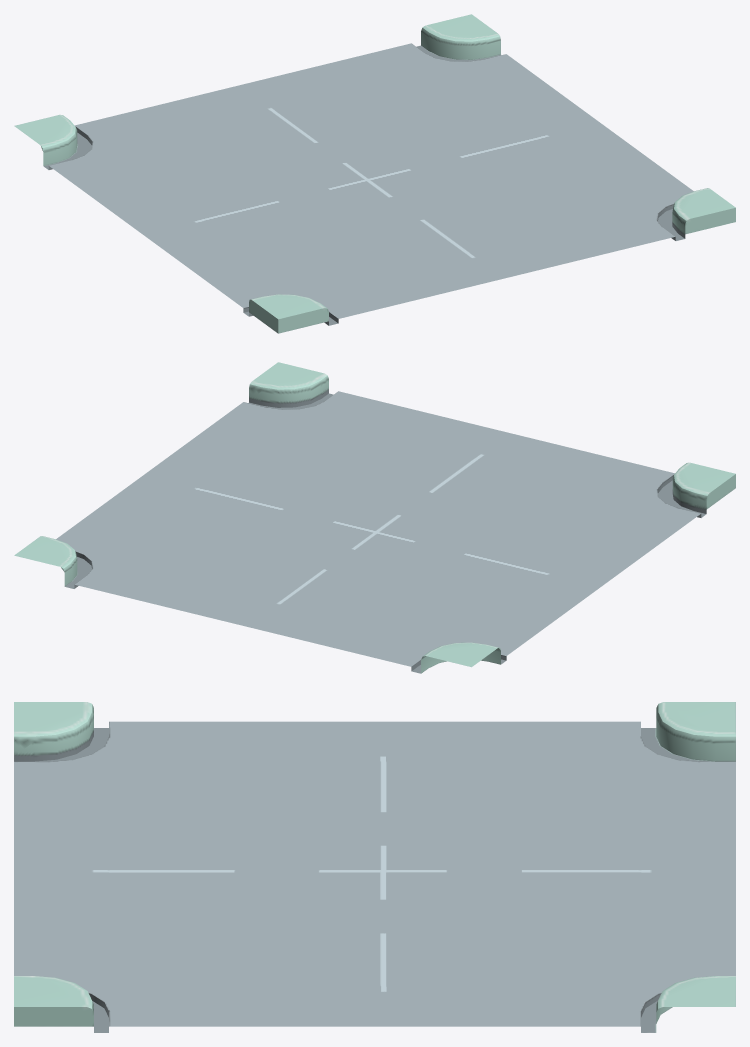
Rendered from 1X1Joint.fbx.
3 views of the same model, one above another, from view 1: azimuth 30°, elevation 25°; view 2: azimuth 150°, elevation 25°; view 3: azimuth 270°, elevation 25° (orthographic). The views are drawn at different scales.
Visible parts, largest first — view 1: pPlane22; view 2: pPlane22; view 3: pPlane22.
Boxes of the visible parts, <box> form: pPlane22: <box>14,14,735,333</box>; pPlane22: <box>14,362,735,673</box>; pPlane22: <box>14,702,735,1032</box>.
Size of the model in its own units: 1 by 0.0395 by 1.
1 material, 1 textured.
